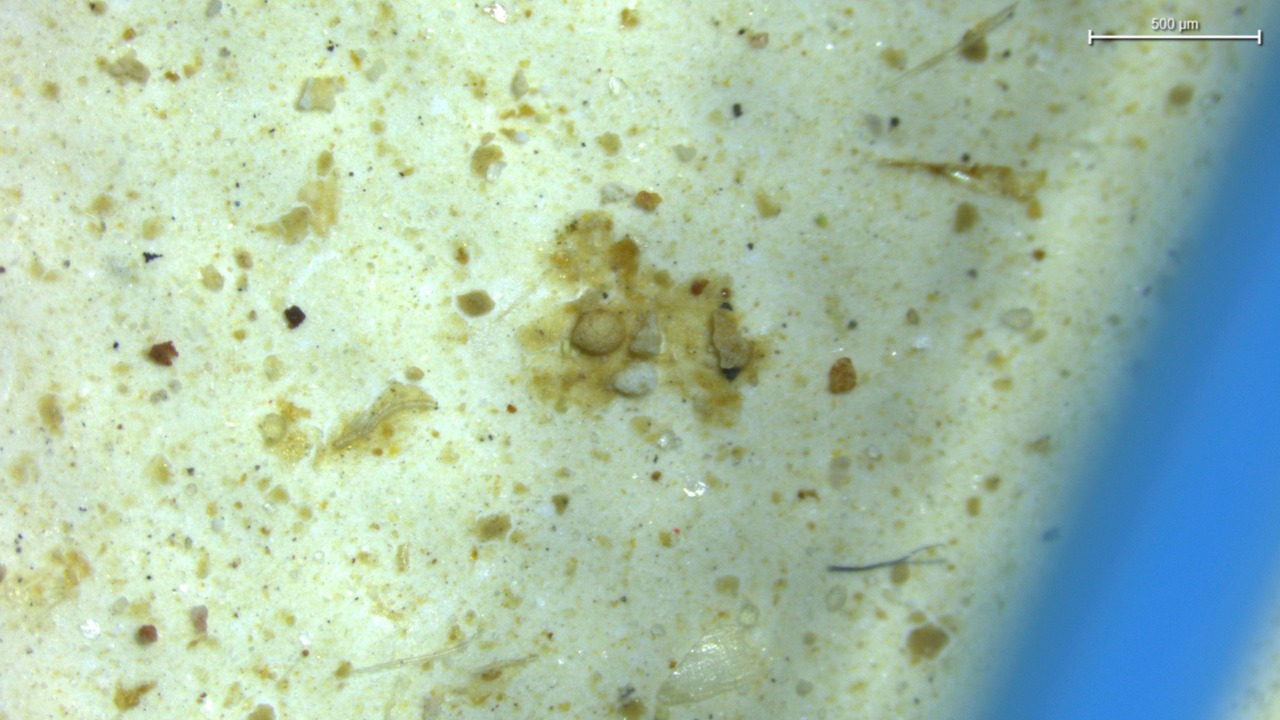microplastic_fragment: (611, 363, 657, 396)
